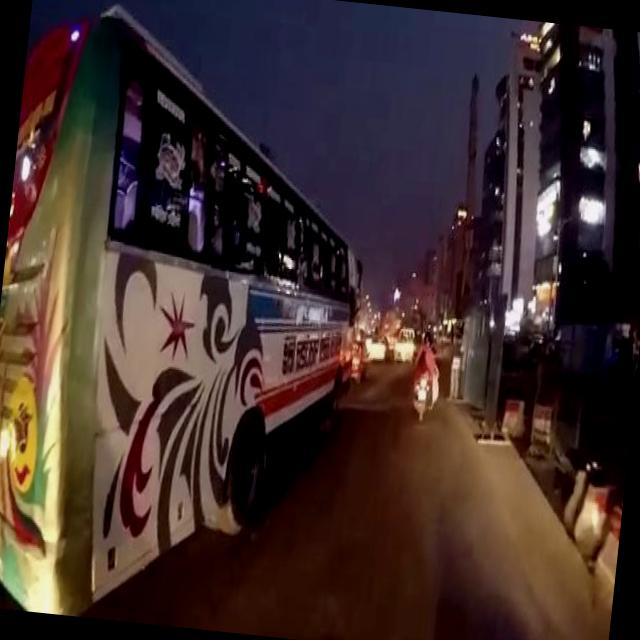bus: (0, 2, 387, 640)
car: (350, 334, 372, 377), (370, 331, 390, 356)
motorcycle: (414, 368, 436, 421)
truck: (395, 322, 419, 358)
